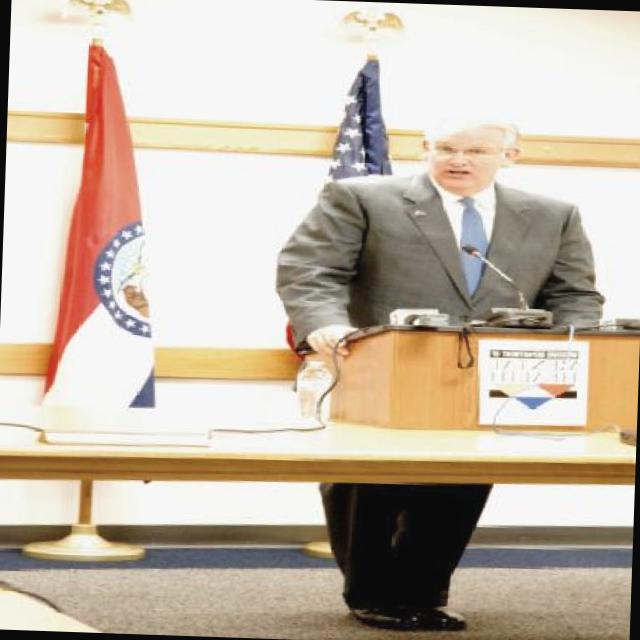Person: (254, 107, 612, 628)
